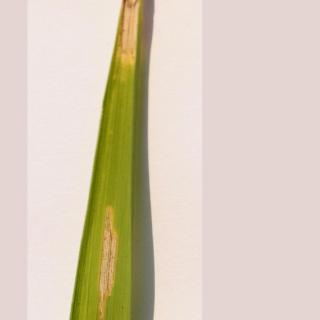Hawar-Daun: (88, 200, 128, 320), (115, 0, 138, 100)
